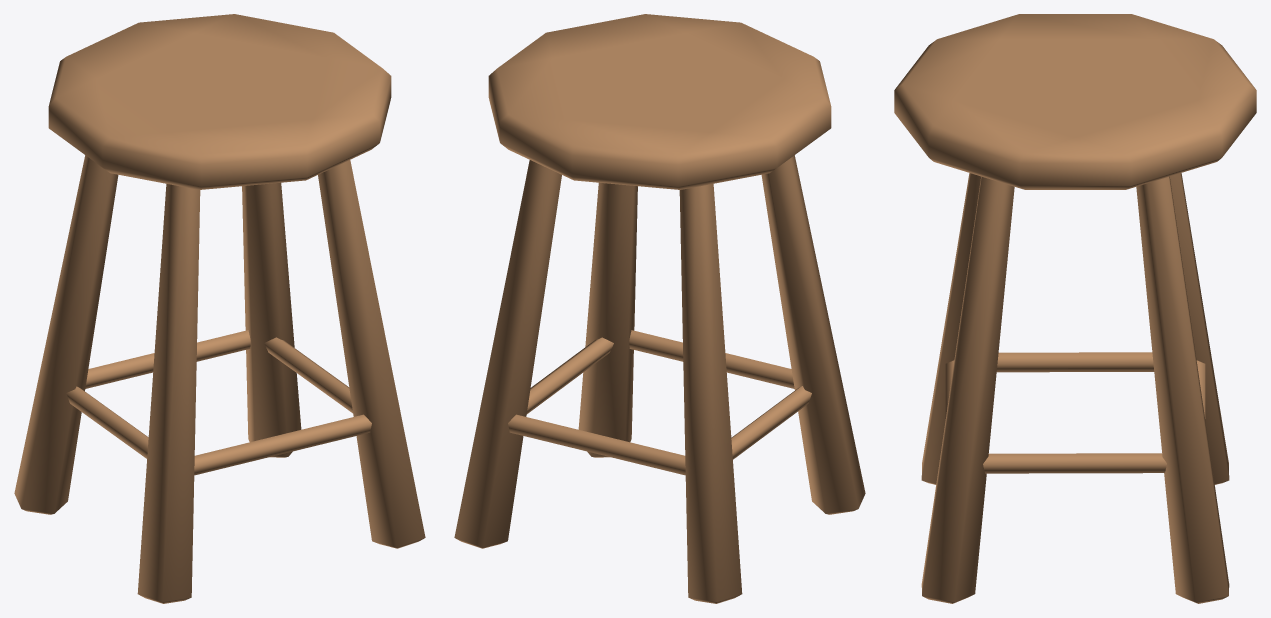
The model's file is stool_01.glb.
3 renders of one model, left to right at view 1: azimuth 30°, elevation 25°; view 2: azimuth 150°, elevation 25°; view 3: azimuth 270°, elevation 25°, orthographic. The views are drawn at different scales.
Parts seen in each view (by area): view 1: stool.01; view 2: stool.01; view 3: stool.01.
Boxes of the visible parts, box(x1,y1,x2,y2) form: stool.01: box(14, 14, 425, 603); stool.01: box(454, 14, 865, 603); stool.01: box(894, 14, 1256, 603).
Size of the model in its own units: 0.7979 by 1.16 by 0.8389.
Materials: 1 (1 with a texture image).
